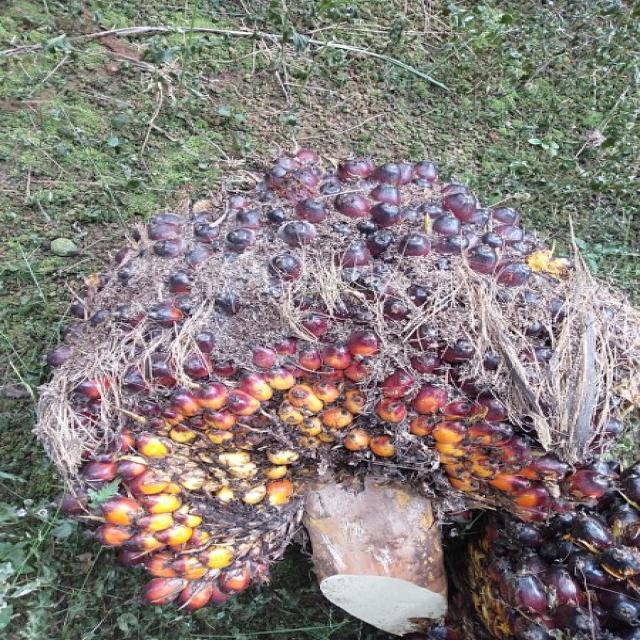fraksi 1: (20, 90, 640, 630)
